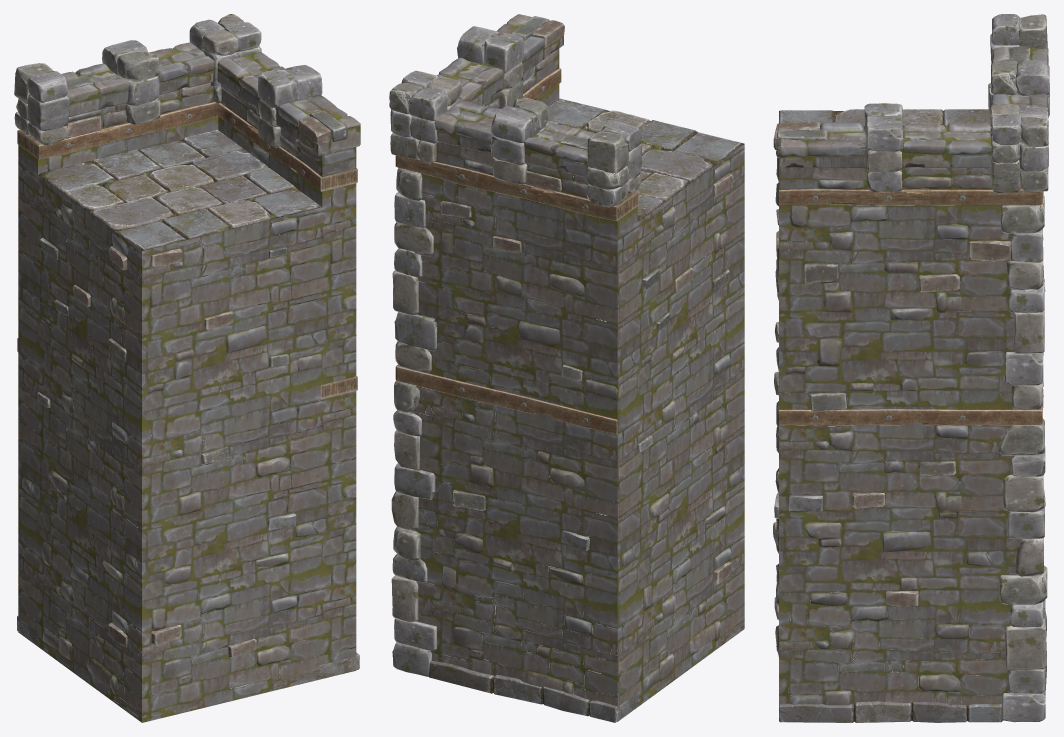
3 renders of one model, left to right at view 1: azimuth 30°, elevation 25°; view 2: azimuth 150°, elevation 25°; view 3: azimuth 270°, elevation 25°, orthographic. The views are drawn at different scales.
Visible parts, largest first — view 1: SM_Castle_Wall_4x12_01_v8_LOD0; view 2: SM_Castle_Wall_4x12_01_v8_LOD0; view 3: SM_Castle_Wall_4x12_01_v8_LOD0.
Boxes of the visible parts, <box> form: SM_Castle_Wall_4x12_01_v8_LOD0: <box>14,14,360,722</box>; SM_Castle_Wall_4x12_01_v8_LOD0: <box>389,14,744,722</box>; SM_Castle_Wall_4x12_01_v8_LOD0: <box>773,14,1049,722</box>.
Bounding box in the file's own units: 5.03 × 11.97 × 5.03.
Materials: 6 (6 with a texture image).
